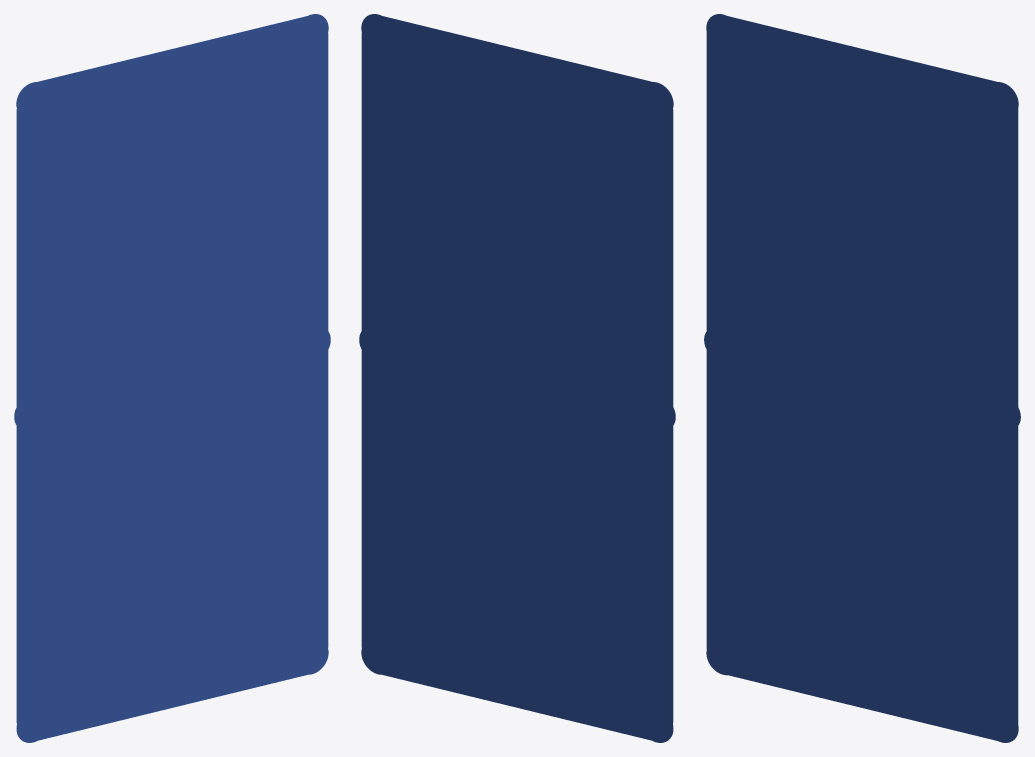
The model's file is Part Studio 1 - Part 3.obj.
The picture shows the model from 3 angles, left to right: view 1: azimuth 30°, elevation 25°; view 2: azimuth 150°, elevation 25°; view 3: azimuth 330°, elevation 25°; orthographic projection.
Parts seen in each view (by area): view 1: mesh17; view 2: mesh18; view 3: mesh17.
Boxes of the visible parts, bbox=[...] form: mesh17: bbox=[14, 14, 330, 742]; mesh18: bbox=[359, 14, 675, 742]; mesh17: bbox=[704, 14, 1020, 742].
Size of the model in its own units: 0.179 by 0.3566 by 0.0001.
